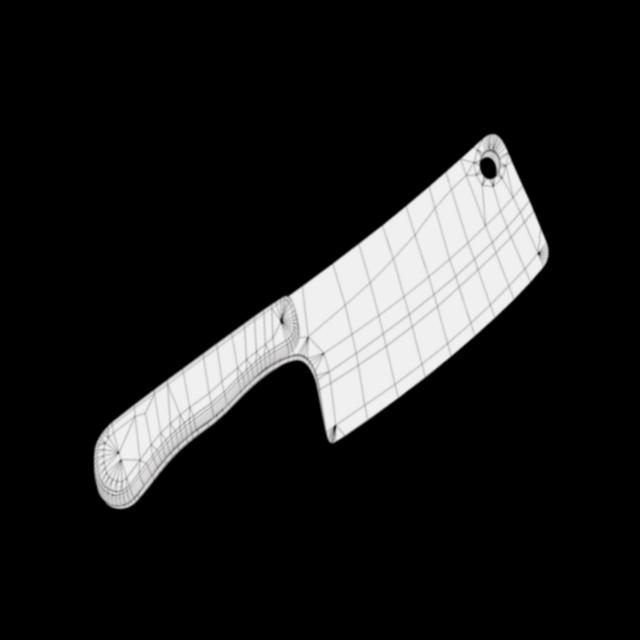cleaver: (84, 67, 574, 582)
